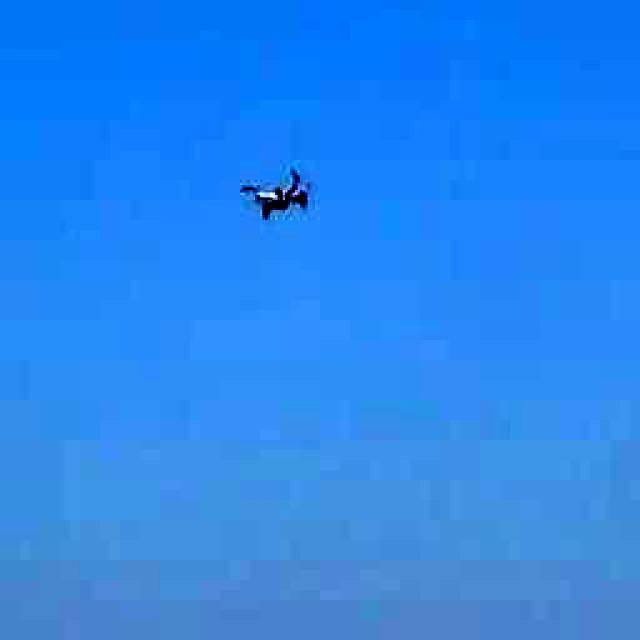bird: (236, 164, 329, 231)
